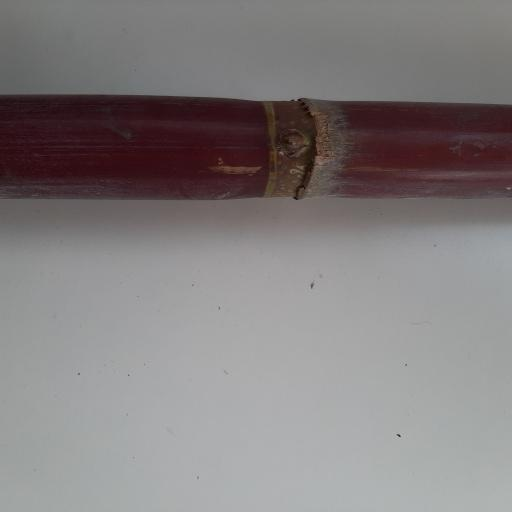Bud: (276, 124, 311, 158)
